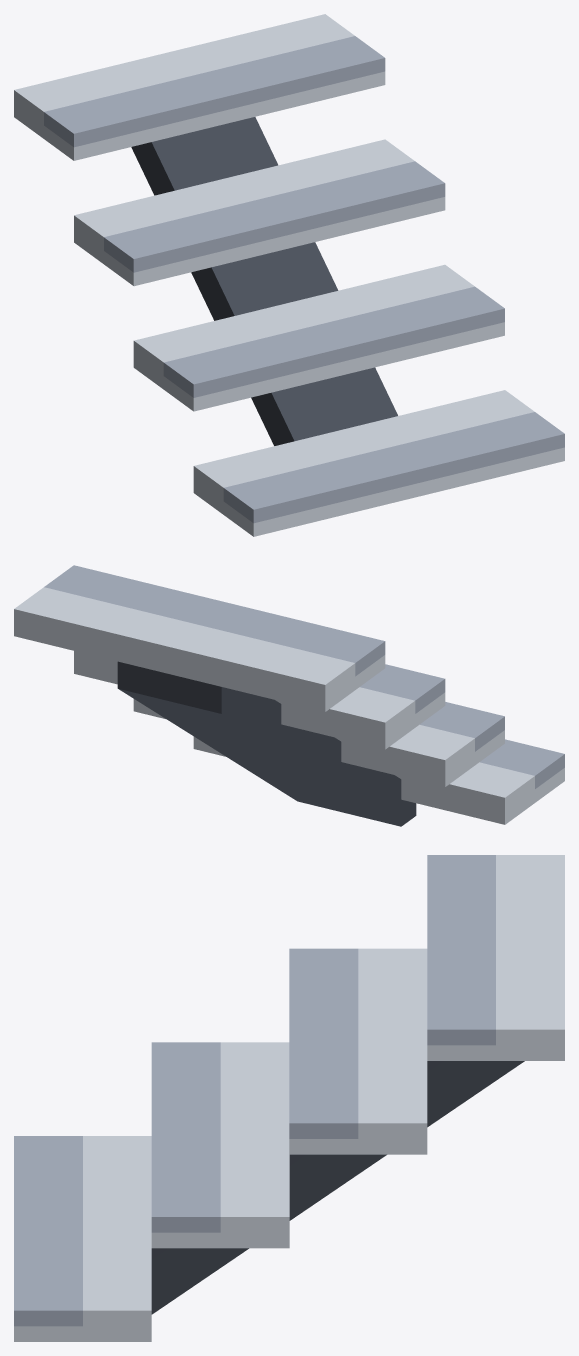
The model's file is stairs_short.dae.
3 renders of one model, top to bottom at view 1: azimuth 30°, elevation 25°; view 2: azimuth 150°, elevation 25°; view 3: azimuth 270°, elevation 25°, orthographic. The views are drawn at different scales.
Parts seen in each view (by area): view 1: stairs_short; view 2: stairs_short; view 3: stairs_short.
Boxes of the visible parts, x1,y1,x2,y2 form: stairs_short: [14, 14, 564, 536]; stairs_short: [14, 565, 564, 826]; stairs_short: [14, 855, 564, 1341].
Size of the model in its own units: 0.3 by 0.275 by 0.4.
